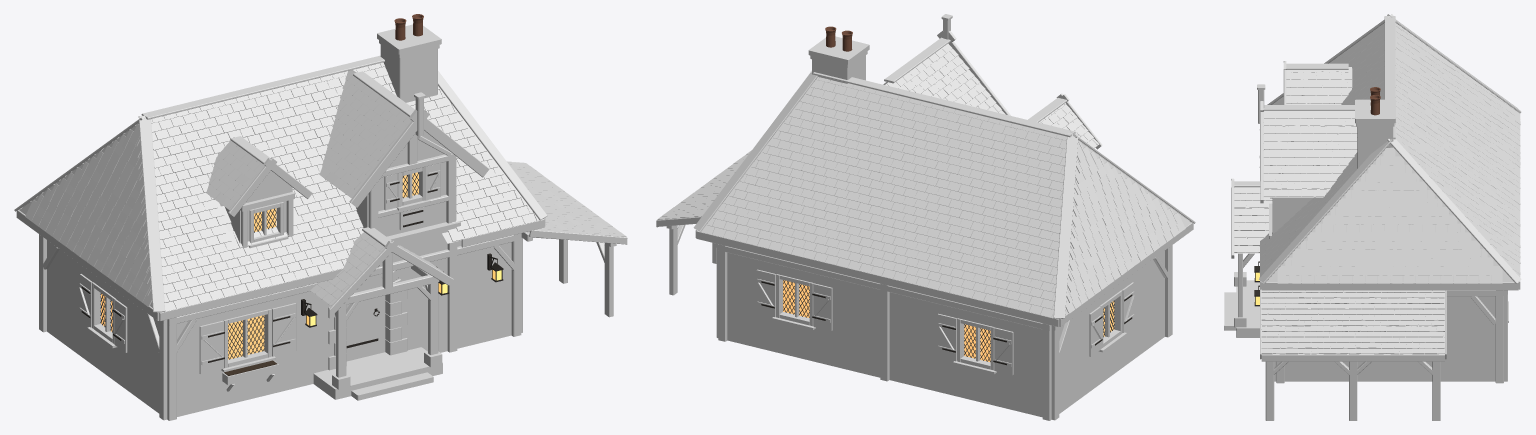
Rendered from SilverbrookFarmhouse.glb.
3 renders of one model, left to right at view 1: azimuth 30°, elevation 25°; view 2: azimuth 150°, elevation 25°; view 3: azimuth 270°, elevation 25°, orthographic. The views are drawn at different scales.
Parts seen in each view (by area): view 1: SM_SBFarmhouse_Roof, SM_SBFarmhouse_Masonry, SM_SBFarmhouse_Timber, SM_SBFarmhouse_Details, SM_SBFarmhouse_Plaster, SM_SBFarmhouse_Details_Door1; view 2: SM_SBFarmhouse_Roof, SM_SBFarmhouse_Masonry, SM_SBFarmhouse_Timber, SM_SBFarmhouse_Details; view 3: SM_SBFarmhouse_Roof, SM_SBFarmhouse_Masonry, SM_SBFarmhouse_Timber, SM_SBFarmhouse_Plaster, SM_SBFarmhouse_Details.
Boxes of the visible parts, box(x1,y1,x2,y2) form: SM_SBFarmhouse_Roof: box(14, 55, 626, 312); SM_SBFarmhouse_Masonry: box(47, 24, 511, 416); SM_SBFarmhouse_Timber: box(16, 92, 627, 420); SM_SBFarmhouse_Details: box(79, 14, 503, 375); SM_SBFarmhouse_Plaster: box(225, 130, 450, 243); SM_SBFarmhouse_Details_Door1: box(346, 275, 385, 361); SM_SBFarmhouse_Roof: box(657, 37, 1195, 318); SM_SBFarmhouse_Masonry: box(727, 36, 1164, 417); SM_SBFarmhouse_Timber: box(656, 14, 1193, 420); SM_SBFarmhouse_Details: box(756, 26, 1134, 375); SM_SBFarmhouse_Roof: box(1234, 14, 1521, 354); SM_SBFarmhouse_Masonry: box(1224, 99, 1495, 381); SM_SBFarmhouse_Timber: box(1231, 61, 1520, 420); SM_SBFarmhouse_Plaster: box(1276, 197, 1312, 231); SM_SBFarmhouse_Details: box(1254, 87, 1380, 306).
Size of the model in its own units: 11.81 by 6.89 by 7.05.
